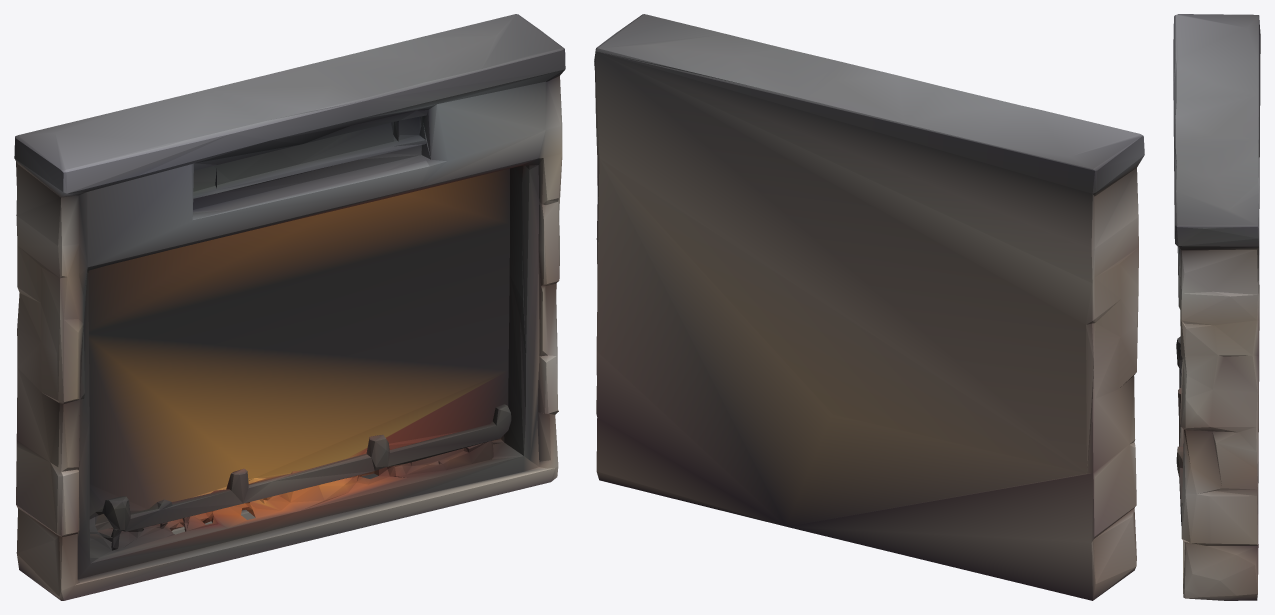
3 views of the same model, side by side, from view 1: azimuth 30°, elevation 25°; view 2: azimuth 150°, elevation 25°; view 3: azimuth 270°, elevation 25° (orthographic). The views are drawn at different scales.
Visible parts, largest first — view 1: geometry_0; view 2: geometry_0; view 3: geometry_0.
Part boxes in pixels (bbox=[...]): geometry_0: bbox=[14, 14, 565, 600]; geometry_0: bbox=[594, 14, 1144, 600]; geometry_0: bbox=[1173, 14, 1260, 600].
Bounding box in the file's own units: 0.9977 × 0.8223 × 0.1728.
